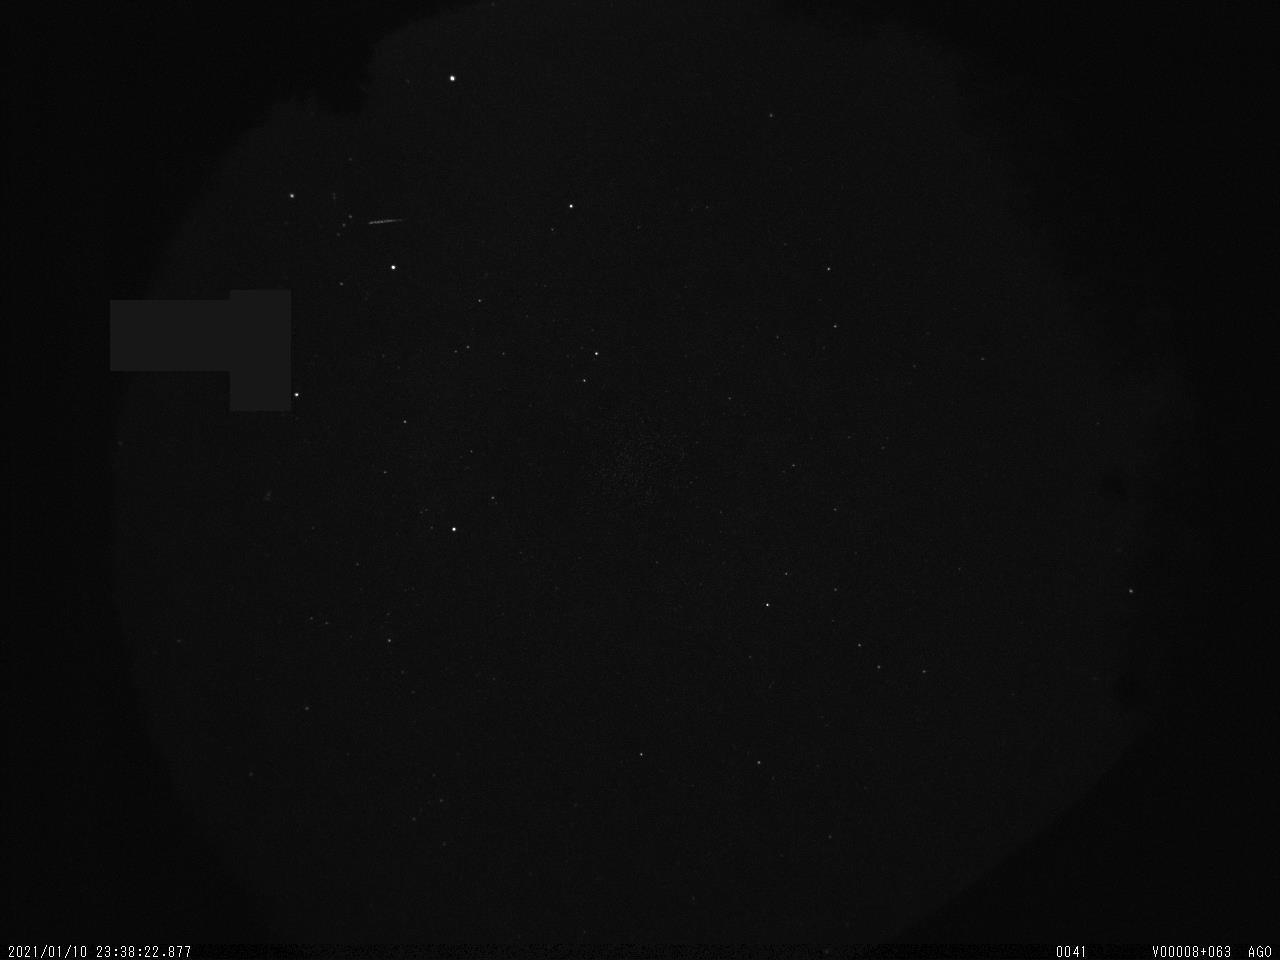meteor: (357, 202, 413, 235)
